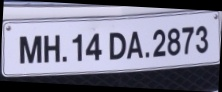character: (19, 35, 42, 63), (108, 31, 126, 60), (125, 30, 143, 59), (42, 34, 60, 62), (85, 32, 102, 61), (152, 29, 166, 57), (167, 27, 180, 55), (181, 26, 193, 54), (195, 25, 207, 53), (72, 33, 83, 62)
